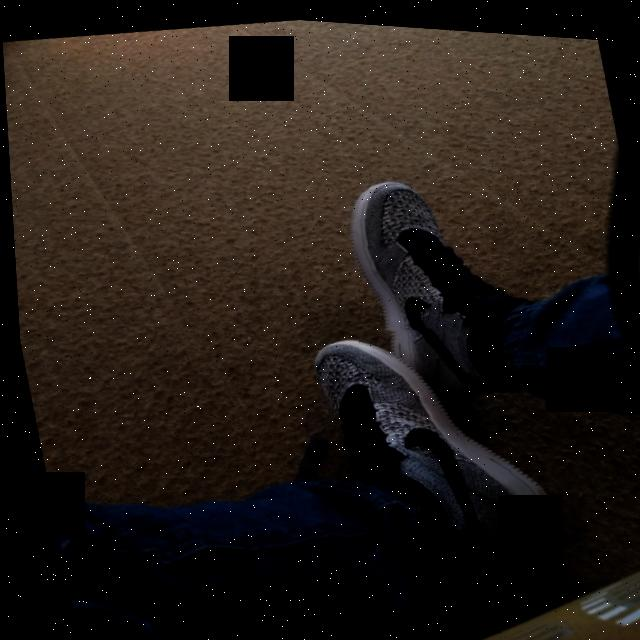shoe: (285, 296, 587, 586), (331, 151, 551, 423)
